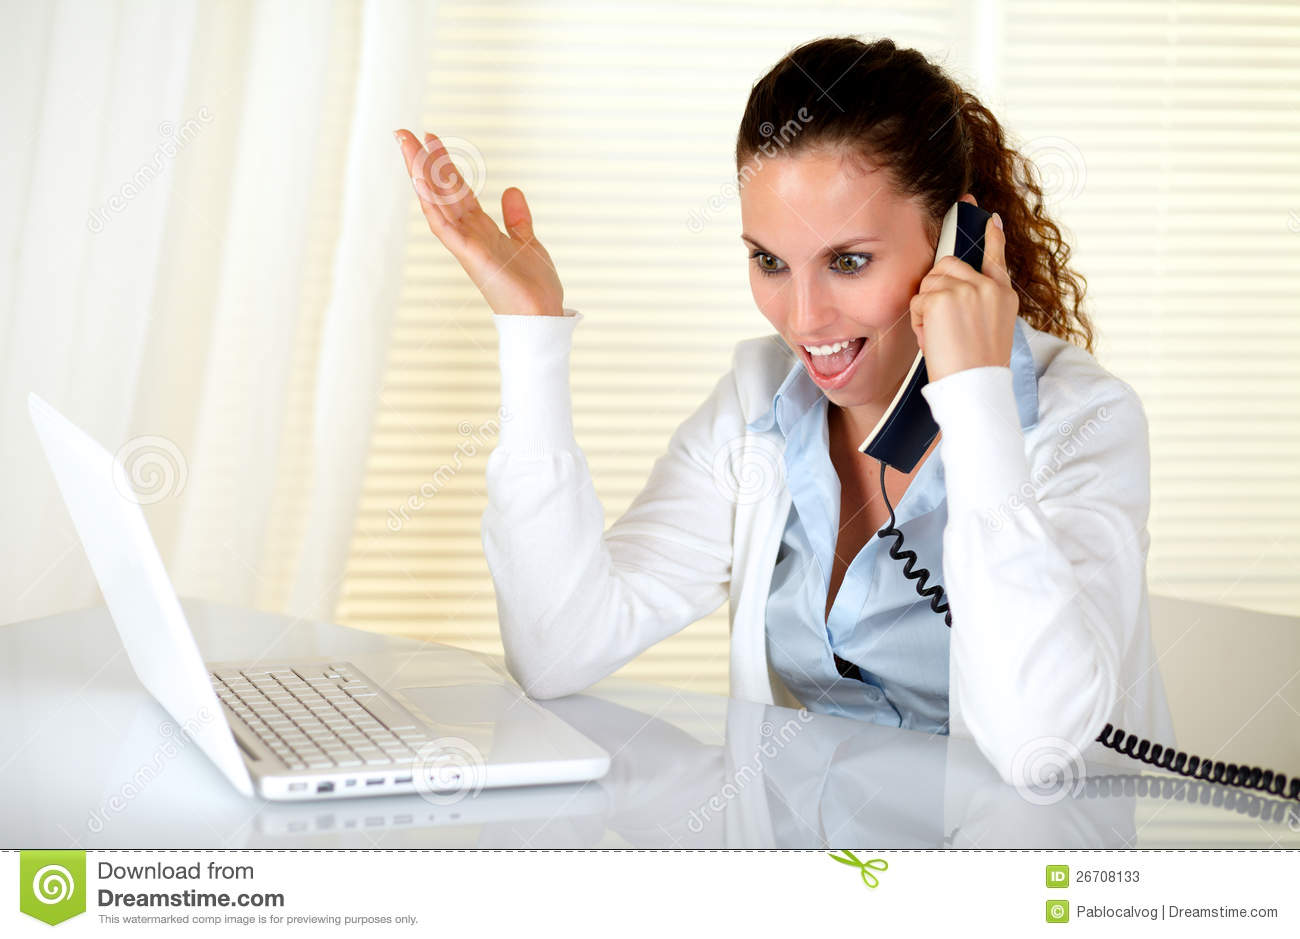phone: (875, 205, 999, 422)
talk: (737, 199, 1019, 423)
